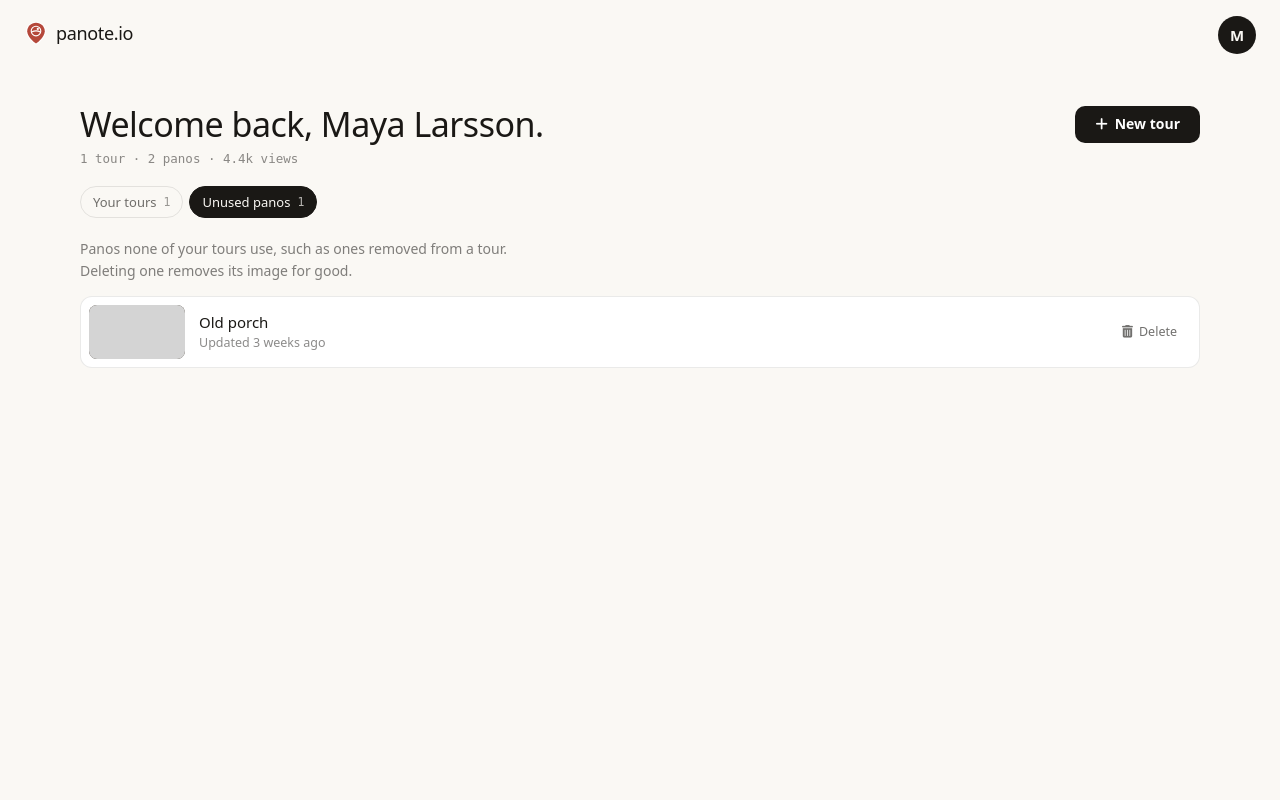
Test case: Dashboard › filters › keeps the chip in use after its list empties, so there is a way back
Click the button with aria-label "Delete “Old porch”".
click(1150, 332)  # box [1112,316,1187,348]
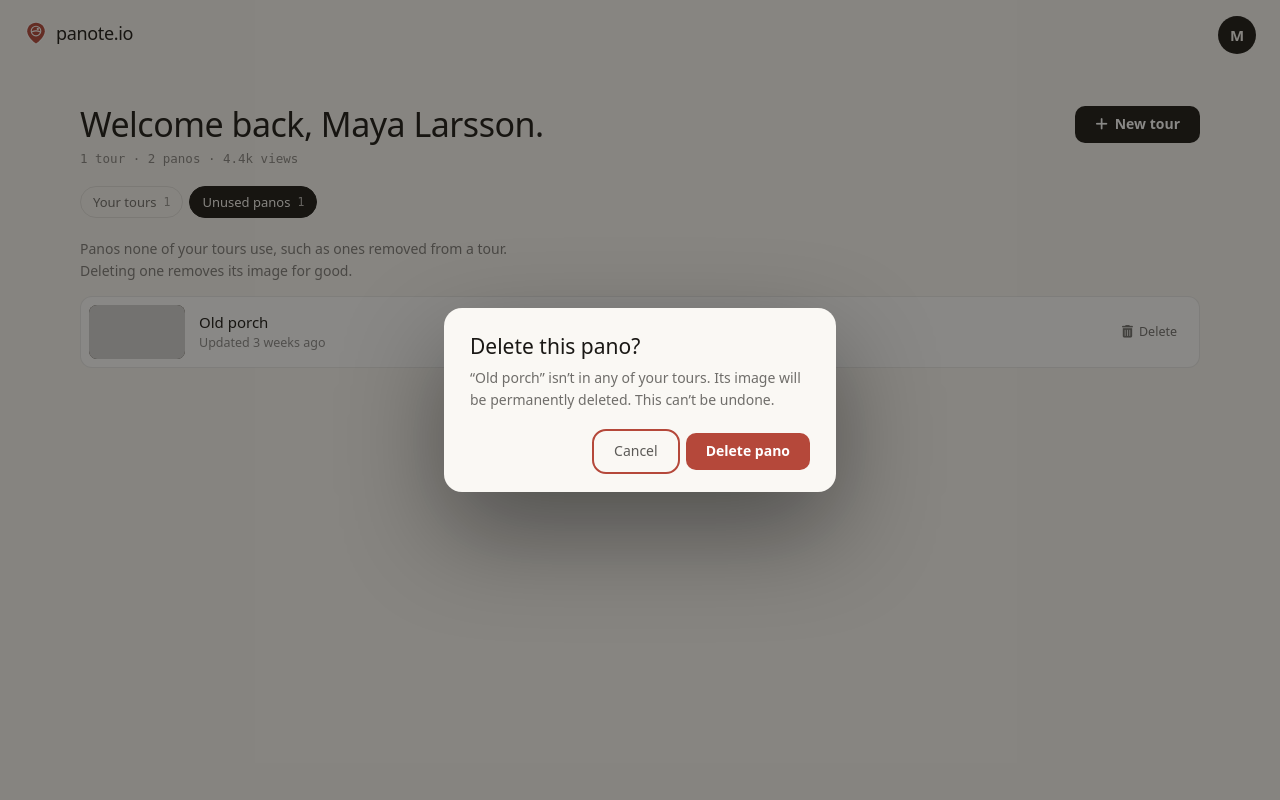
Click the button "Delete pano".
click(748, 451)  # box [686,433,810,470]
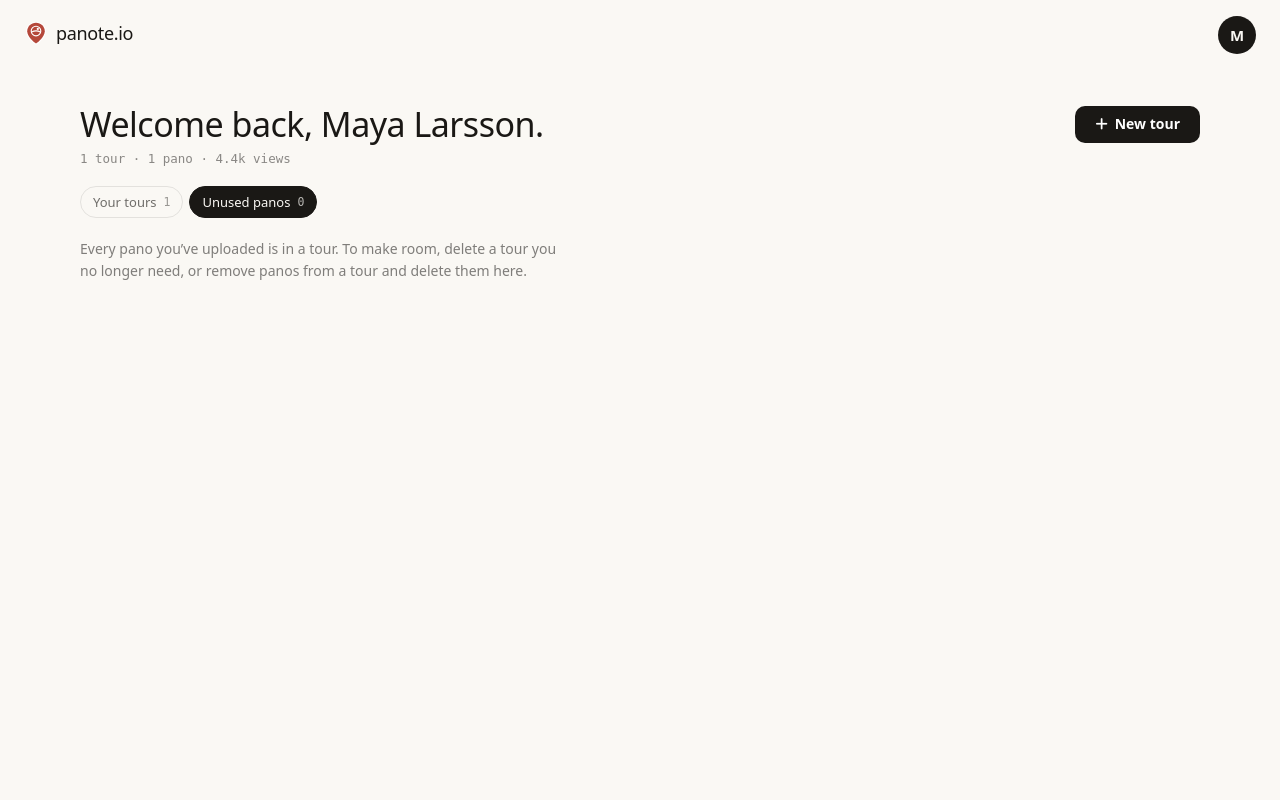
Expected: the text "Every pano you’ve uploaded is in a tour." is shown, [80,239,556,280]
Expected: the button "Unused panos 0" is shown, [190,186,317,218]
Click the button "Your tours 1".
click(132, 202)  # box [80,186,184,218]
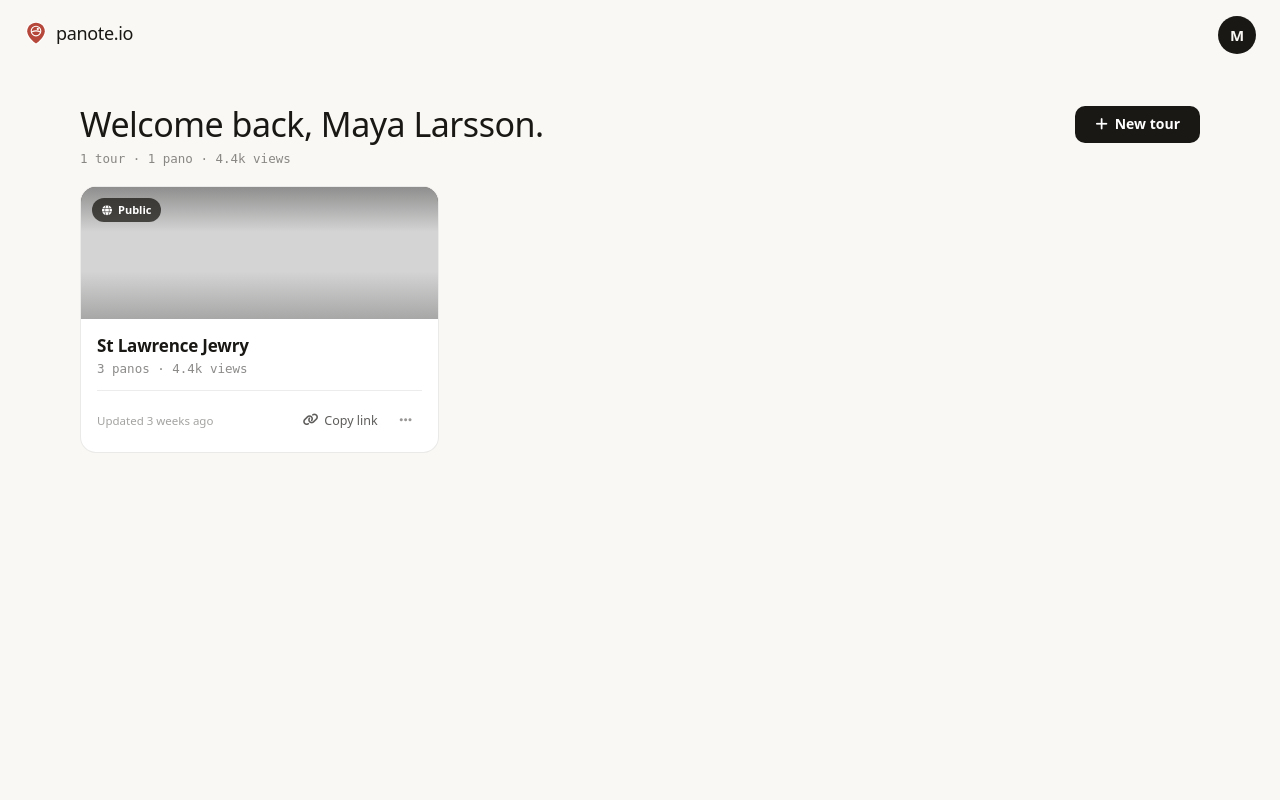
Expected: the link "St Lawrence Jewry" is shown, [97,334,249,357]
Expected: the element "Show" is gone
